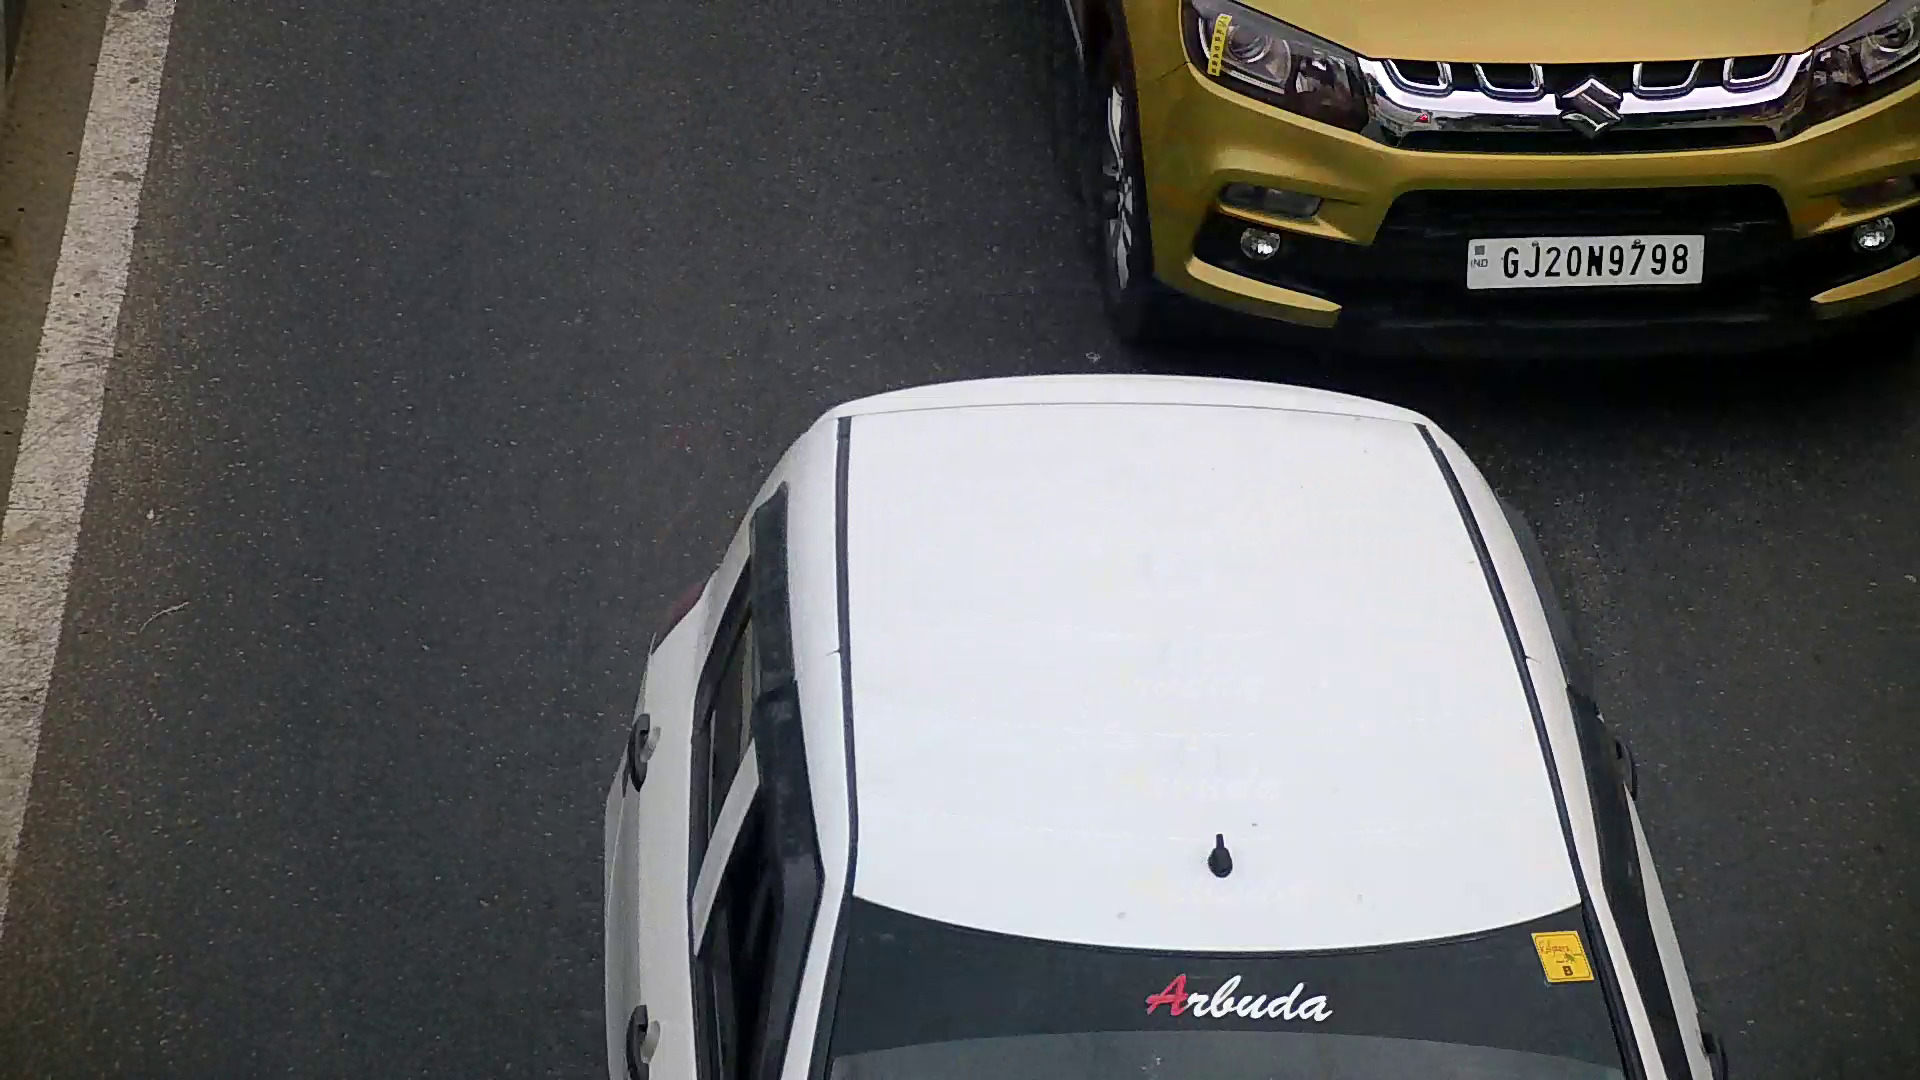numberplate: (1465, 234, 1711, 288)
